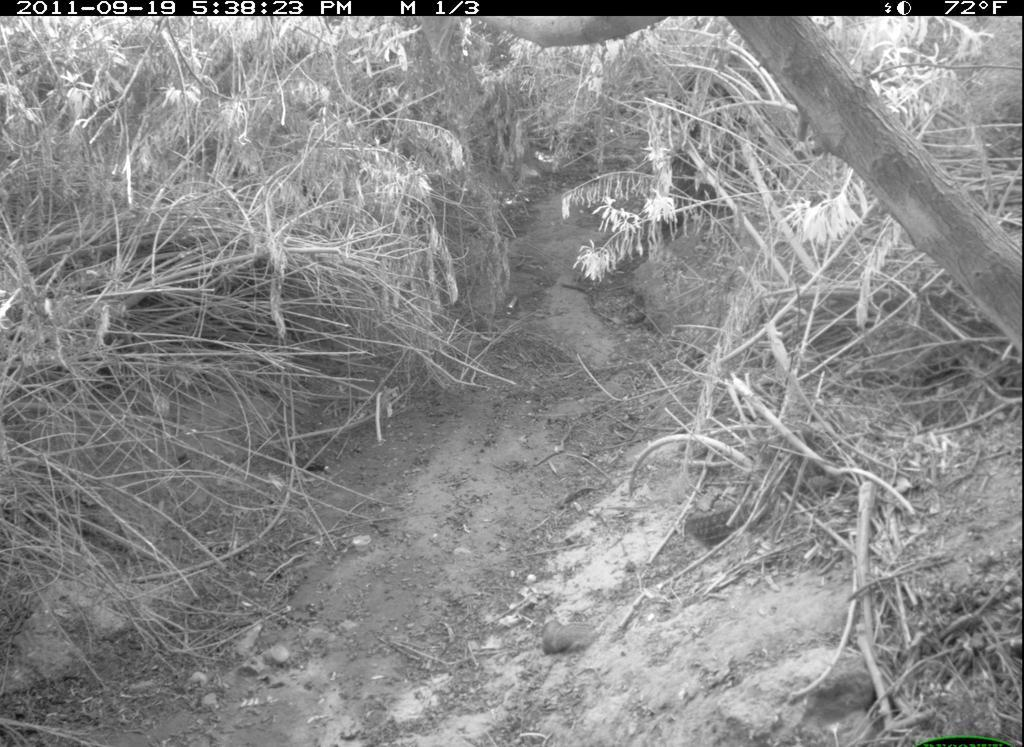squirrel: (529, 607, 598, 661)
